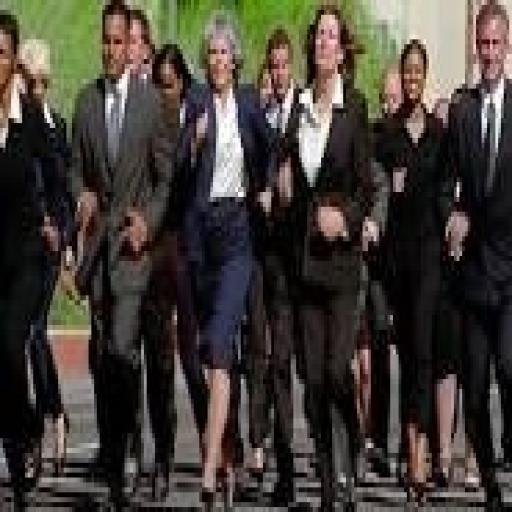running: (67, 0, 177, 507), (274, 5, 385, 507), (174, 10, 274, 507), (440, 0, 509, 507), (380, 35, 448, 507)
